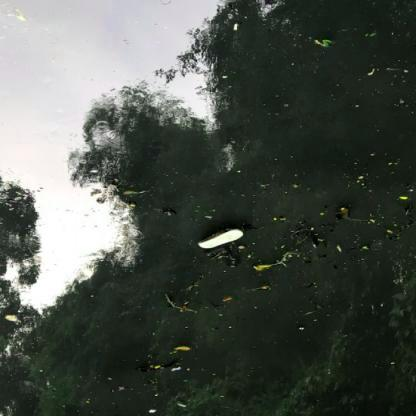Trash: (194, 222, 246, 253)
